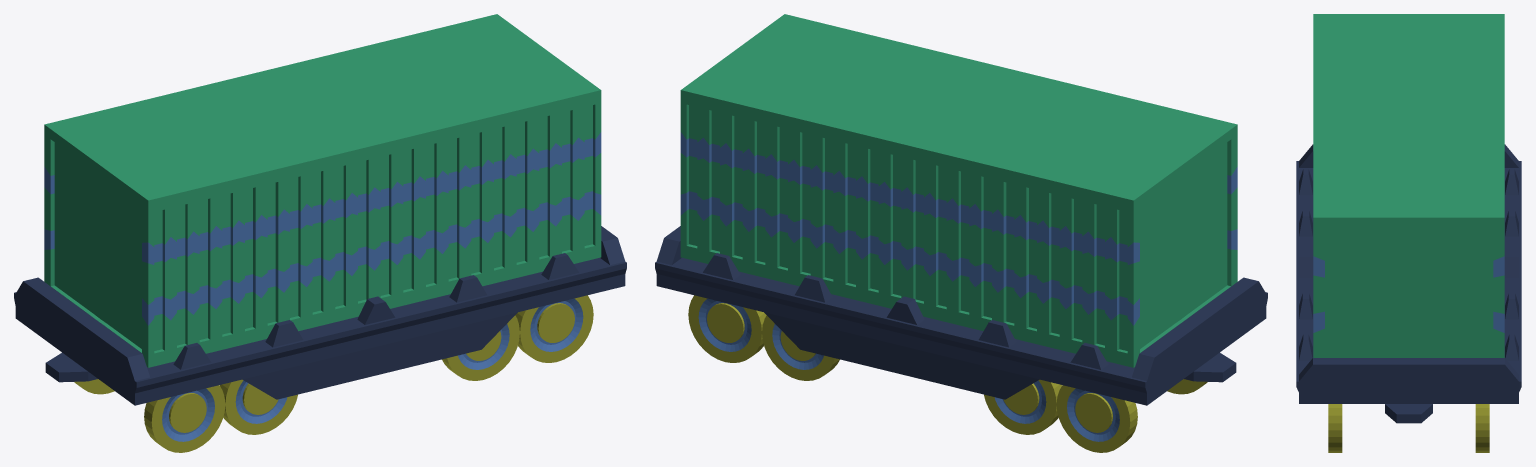
File: CargoWheels05.fbx
The picture shows the model from 3 angles, left to right: view 1: azimuth 30°, elevation 25°; view 2: azimuth 150°, elevation 25°; view 3: azimuth 270°, elevation 25°; orthographic projection. The views are drawn at different scales.
Parts seen in each view (by area): view 1: CargoWheels05; view 2: CargoWheels05; view 3: CargoWheels05.
Boxes of the visible parts, <box> form: CargoWheels05: <box>14,14,626,452</box>; CargoWheels05: <box>655,14,1267,452</box>; CargoWheels05: <box>1296,14,1521,452</box>.
Size of the model in its own units: 856 by 411 by 339.
